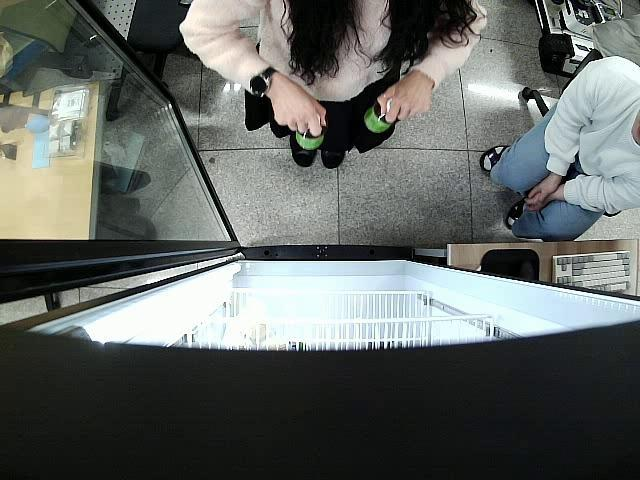19_17cha: (294, 118, 326, 156), (366, 100, 398, 136)
